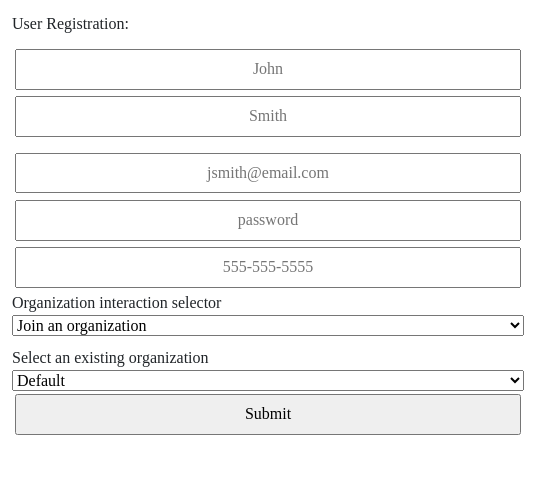
RegistrationPage › RegistrationPage: Invalid last name input
# input text into lastNameInput
Type "invalid1" into the field with placeholder "Smith" at (268, 116), box [15,96,521,137]
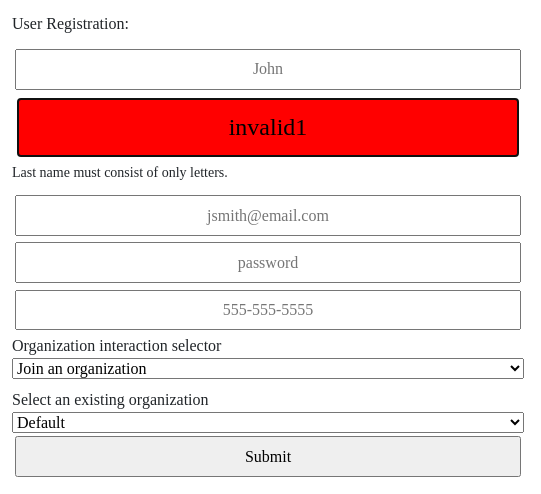
Expected: the text with test id "lastNameErrorMessage" reads "Last name must consist of only letters.", [12,164,228,180]
